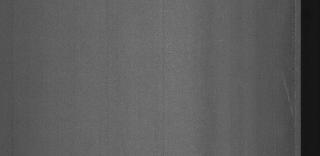silk spot: (282, 68, 298, 122)
